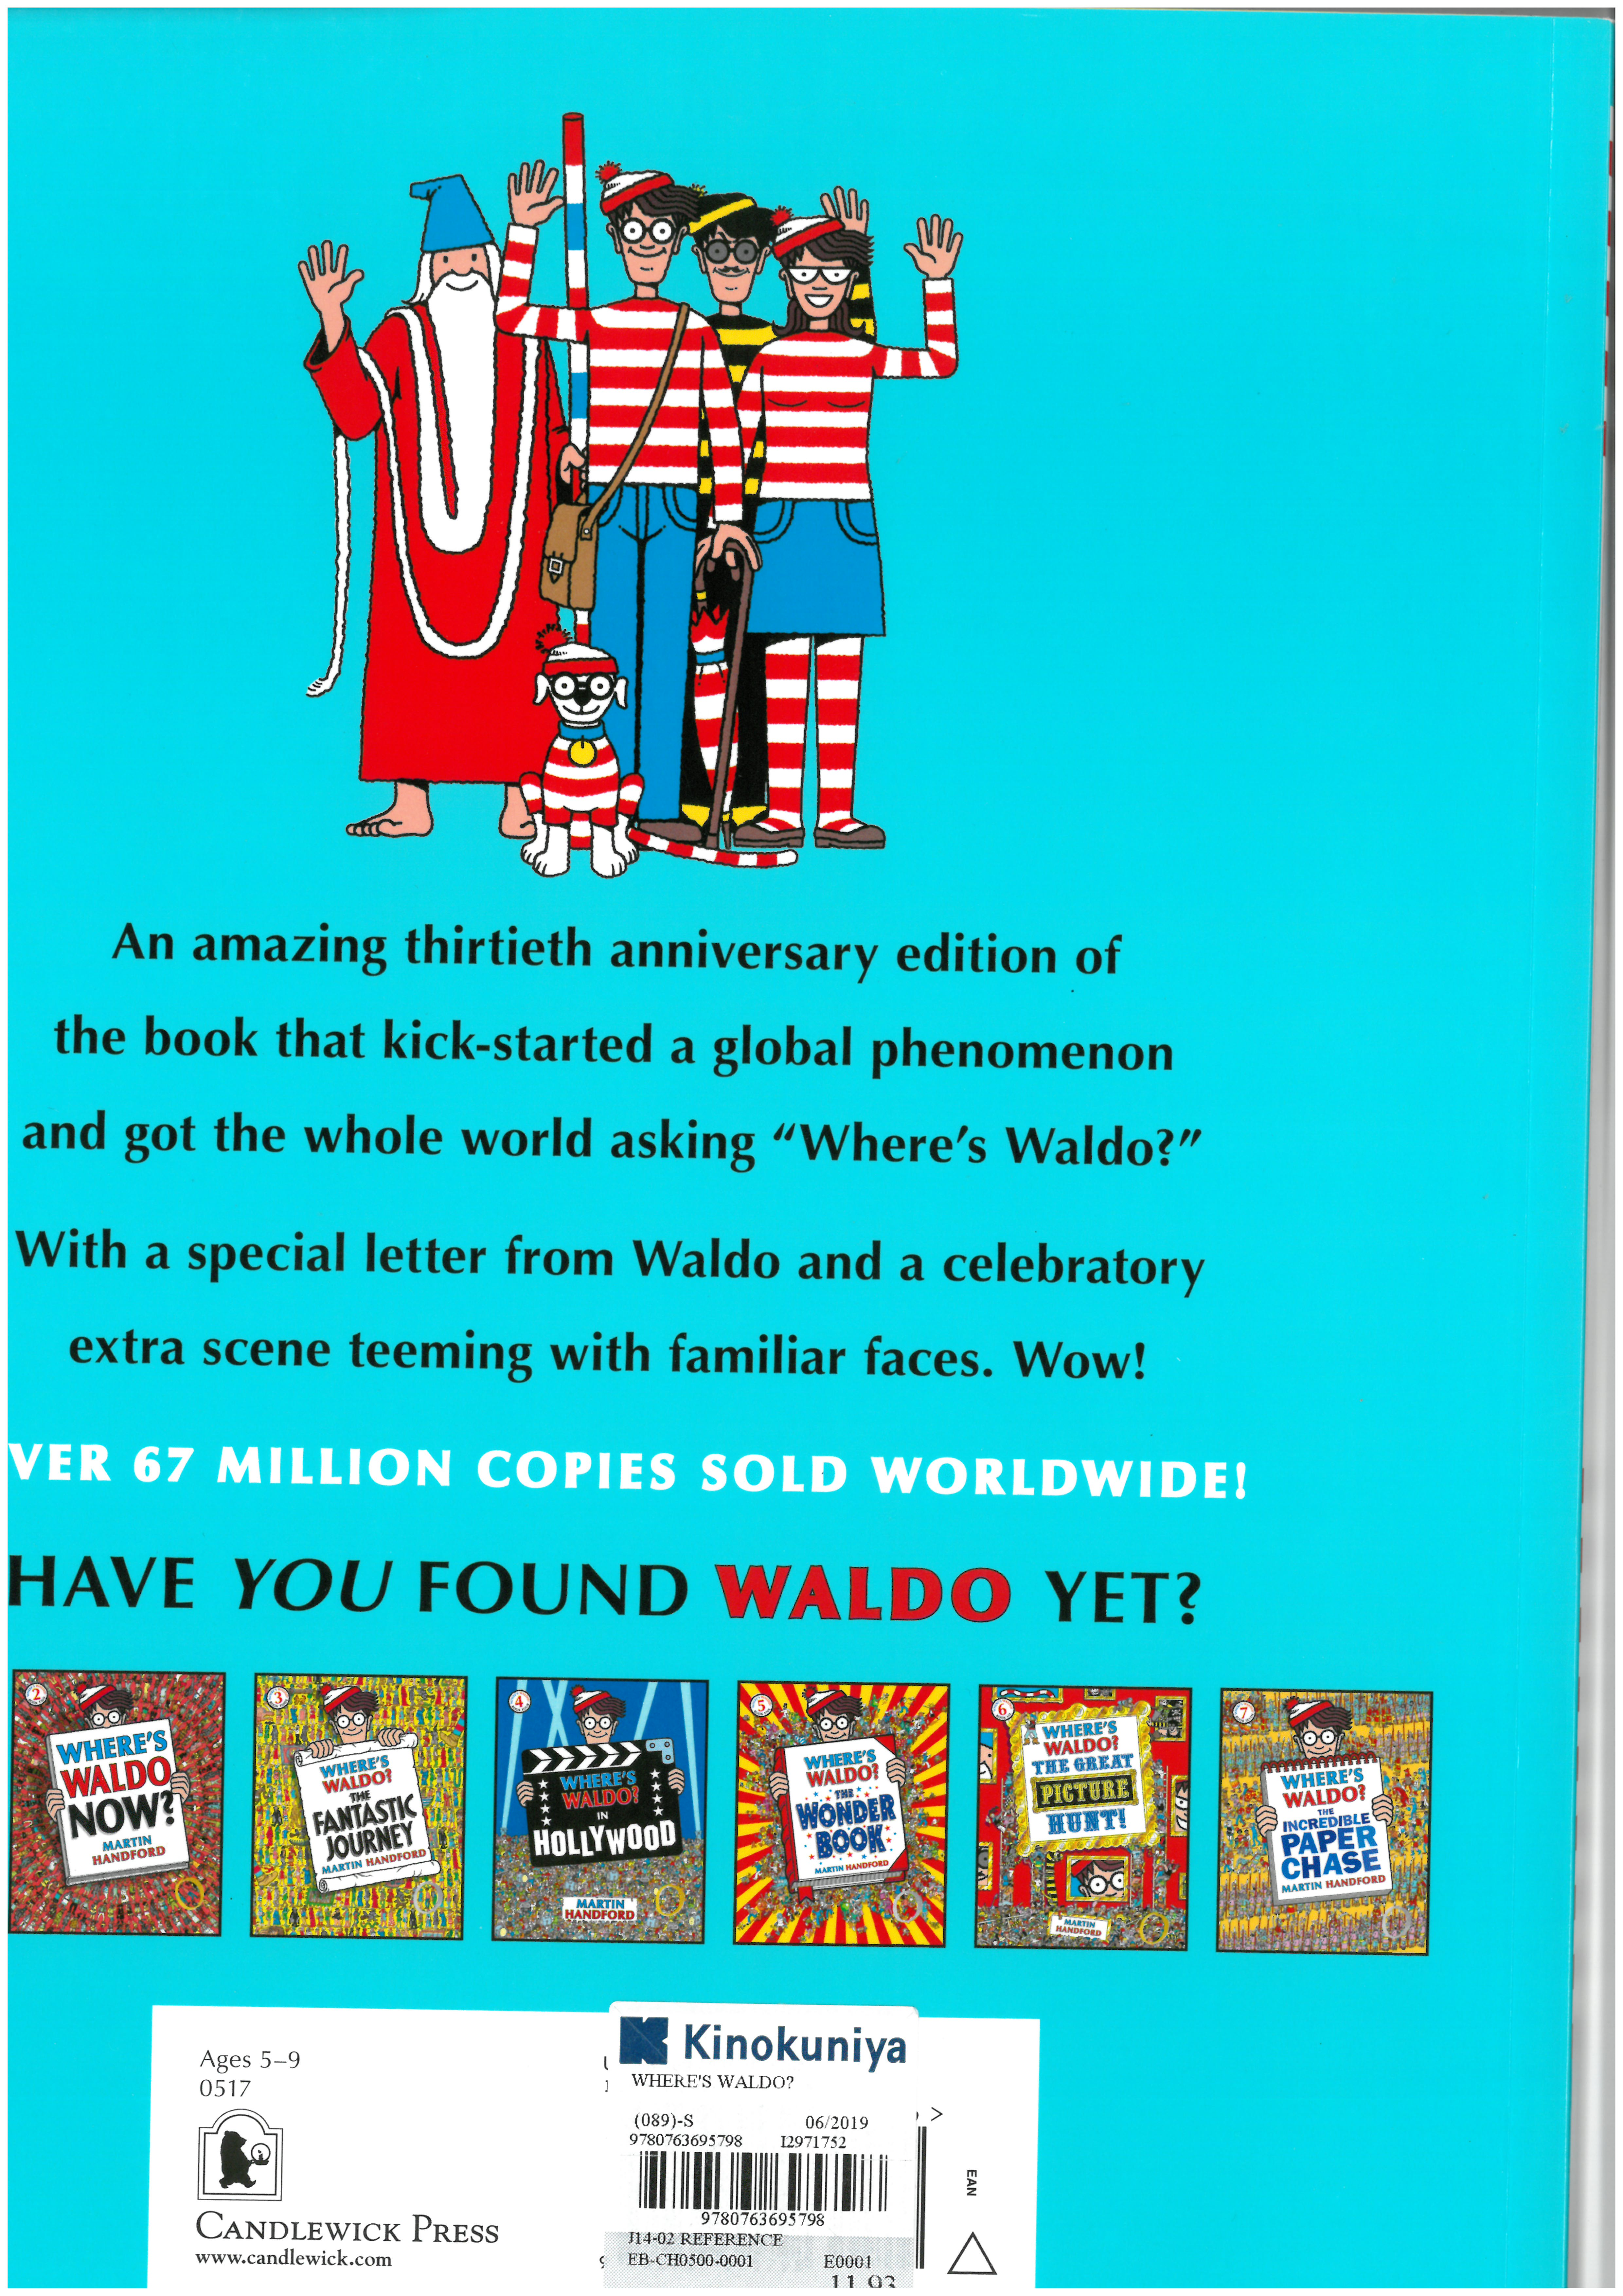waldo: (504, 158, 762, 836), (1282, 1697, 1354, 1760), (318, 1681, 385, 1748), (571, 1685, 629, 1744), (803, 1686, 866, 1741), (70, 1681, 133, 1732), (1068, 1852, 1133, 1899)
wenda: (729, 211, 961, 850)
wizard: (292, 176, 581, 843)
